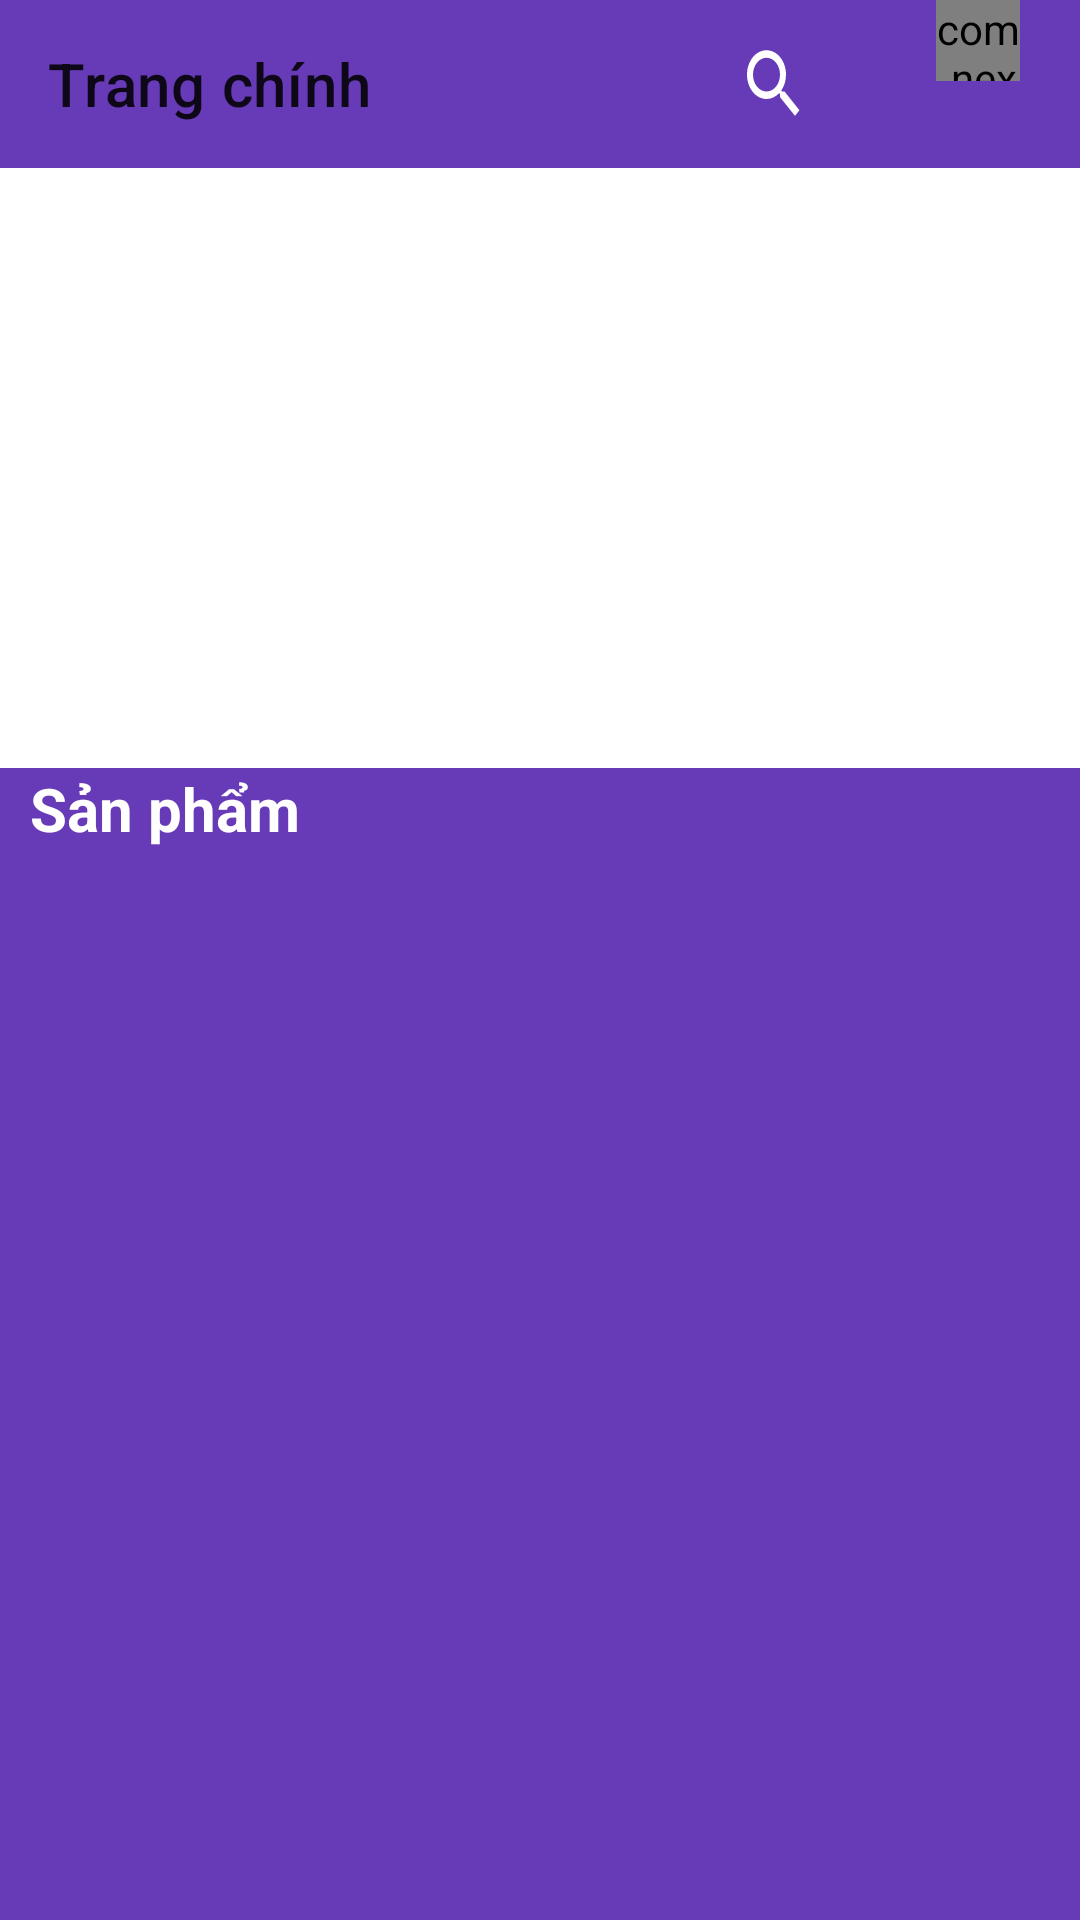

Icons on this 1080×1920 Android screen, each with its box as (x1, y1, x2, y2):
search: (747, 50, 800, 116)
